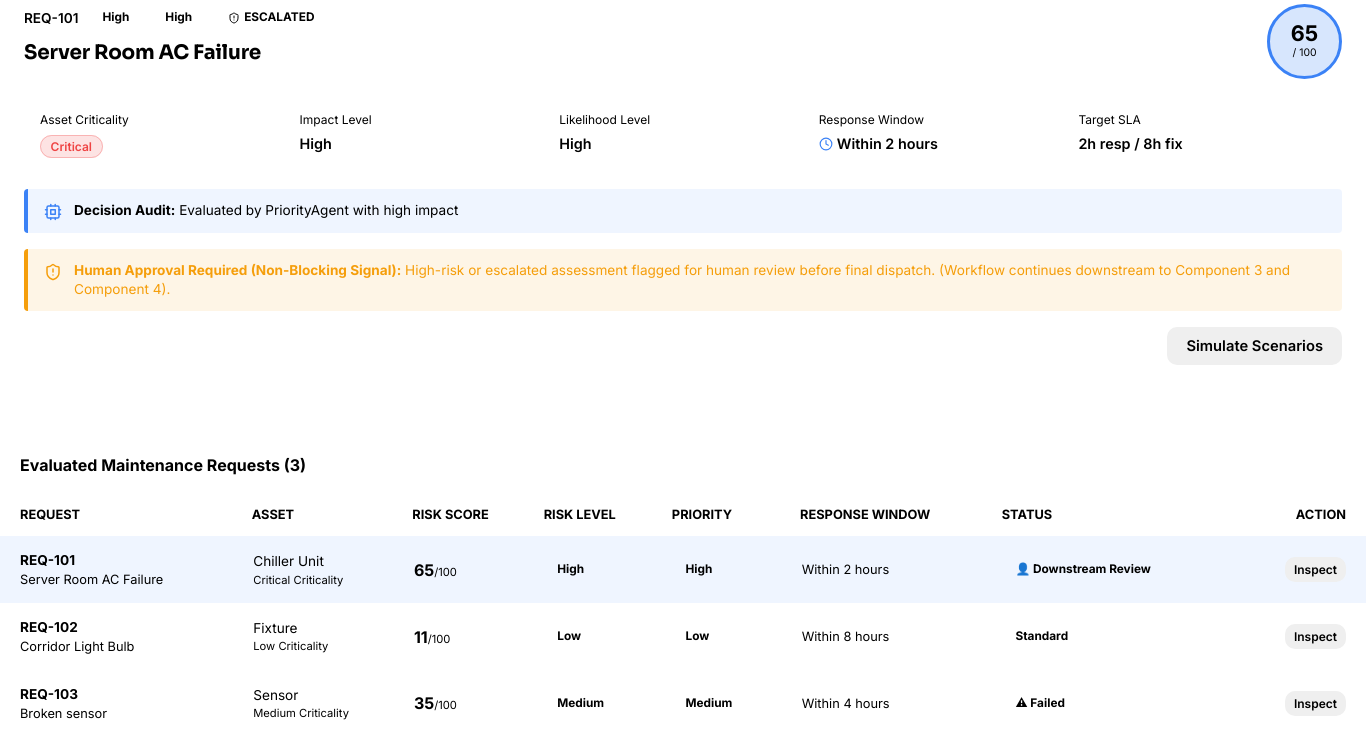
Test: PriorityDashboard Component Workflow & Role Gating › normal user (Requester) does NOT see the Escalate action
The width and height of the screenshot is (1366, 754).
(page scrolled)
Expected: the 1st text "REQ-101" is shown, [24,8,78,28]
Click the text "REQ-102": click(683, 637) [0,603,1365,670]
(page scrolled)
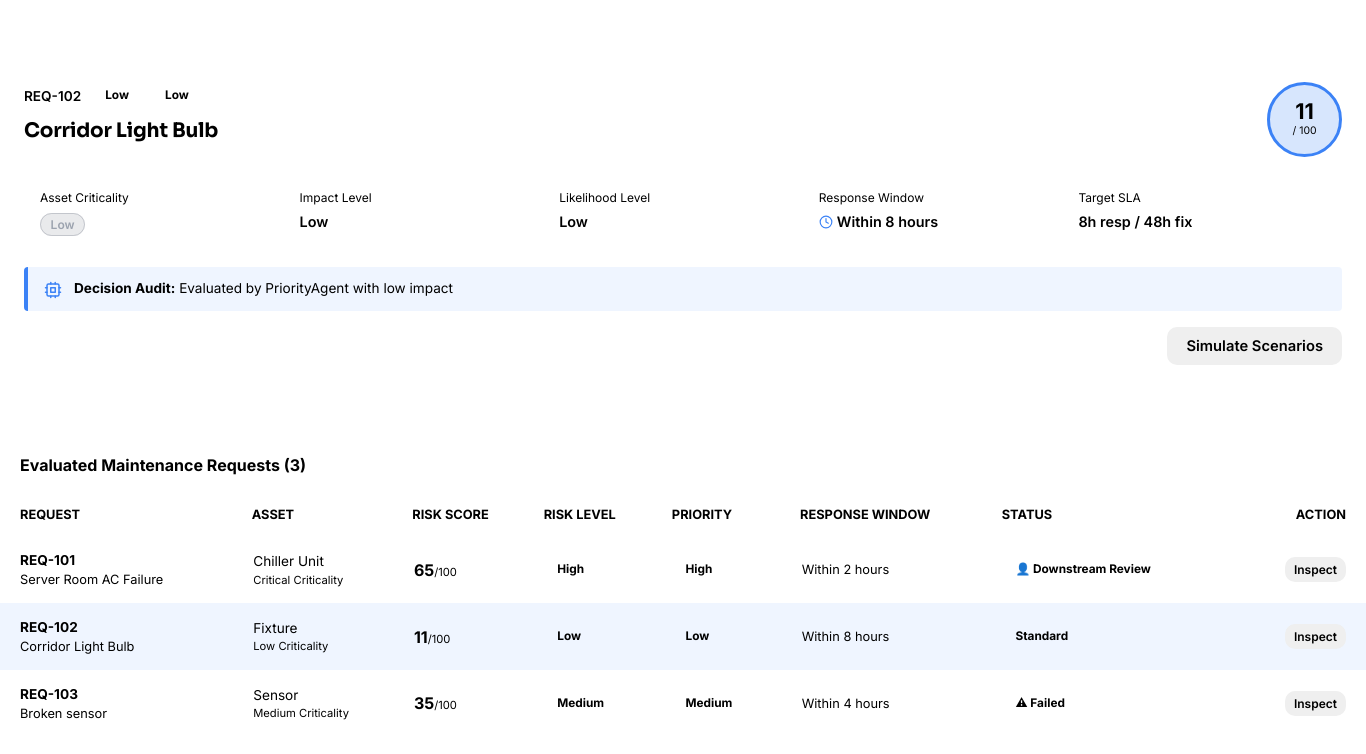
Expected: the 1st text "REQ-102" is shown, [24,86,81,106]
